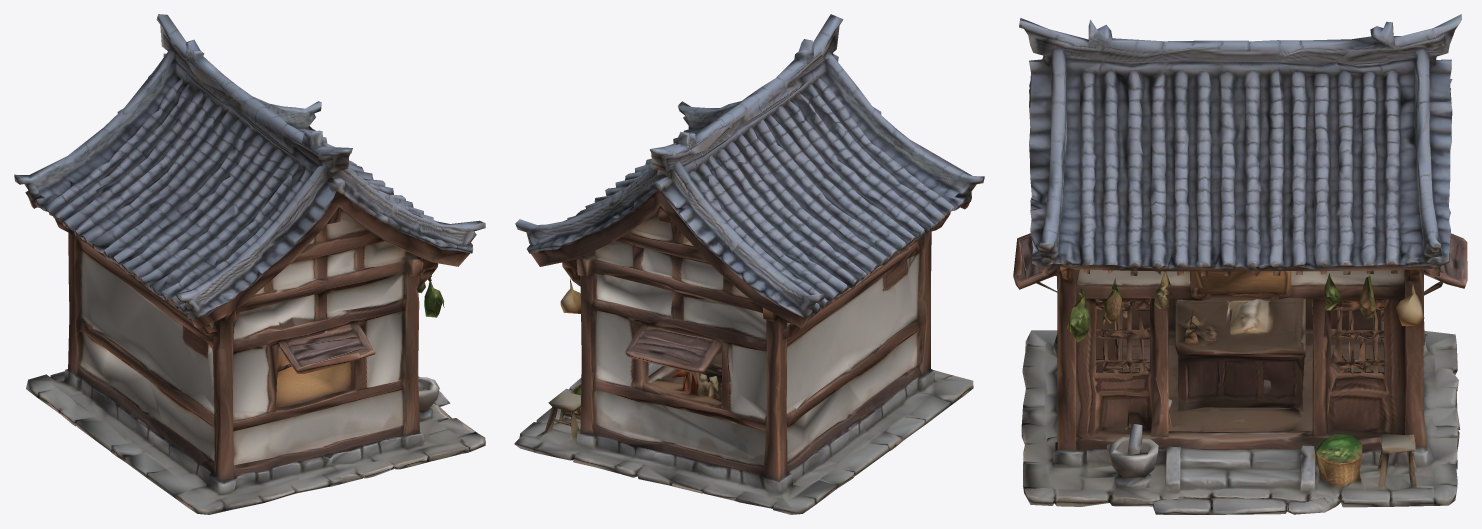
The model's file is lm_lishizhen.glb.
3 views of the same model, side by side, from view 1: azimuth 30°, elevation 25°; view 2: azimuth 150°, elevation 25°; view 3: azimuth 270°, elevation 25° (orthographic). The views are drawn at different scales.
Parts seen in each view (by area): view 1: tripo_node_07e550b6-8e5e-482f-a3ca-9e098cf12647; view 2: tripo_node_07e550b6-8e5e-482f-a3ca-9e098cf12647; view 3: tripo_node_07e550b6-8e5e-482f-a3ca-9e098cf12647.
Part boxes in pixels (x1,y1,x2,y2): tripo_node_07e550b6-8e5e-482f-a3ca-9e098cf12647: (14, 14, 485, 514); tripo_node_07e550b6-8e5e-482f-a3ca-9e098cf12647: (514, 14, 984, 514); tripo_node_07e550b6-8e5e-482f-a3ca-9e098cf12647: (1013, 14, 1467, 514).
Bounding box in the file's own units: 0.9737 × 0.9796 × 0.998.
1 material, 1 textured.
